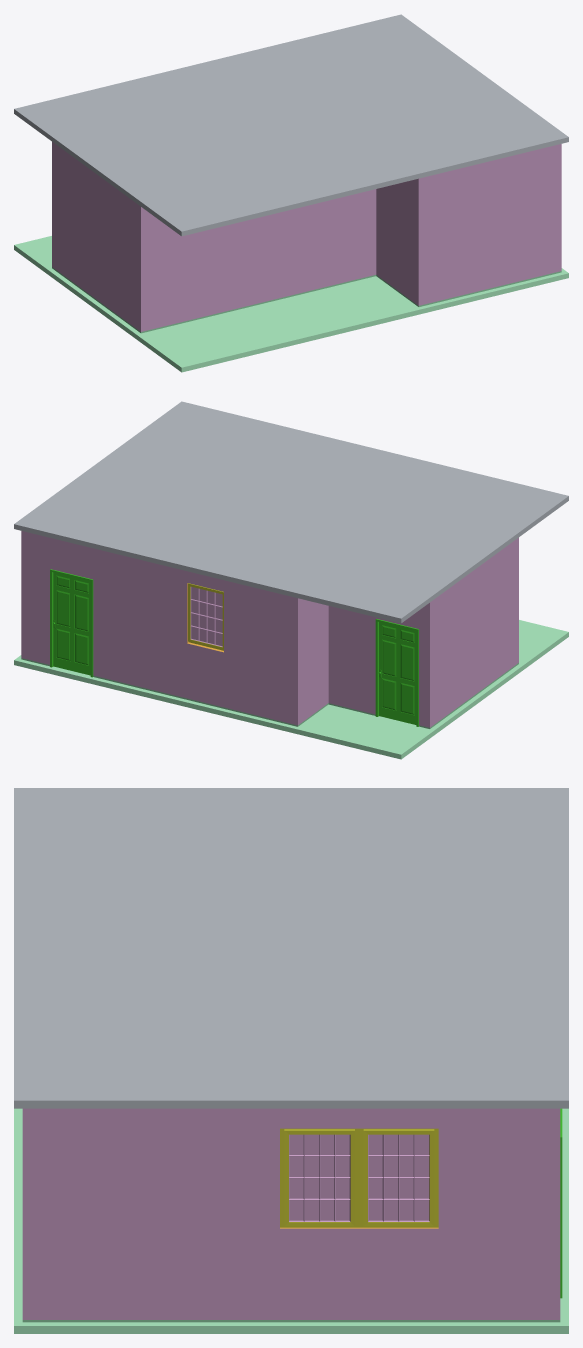
Rendered from FloorPlan7_physics.fbx.
The picture shows the model from 3 angles, top to bottom: view 1: azimuth 30°, elevation 25°; view 2: azimuth 150°, elevation 25°; view 3: azimuth 270°, elevation 25°; orthographic projection. The views are drawn at different scales.
Visible parts, largest first — view 1: Ceiling, StandardWallSize, Floor; view 2: Ceiling, StandardWallSize, Floor, StandardDoor1 (2), StandardDoor1, Glass, StandardDoorFrame1 (2), StandardDoorFrame1, WindowDetail, StandardWindow1 (3); view 3: Ceiling, StandardWallSize, Floor, Glass (2), Glass (3), StandardWindow1, StandardWindow1 (2), WindowTreatment2, WindowTreatment2 (2), WindowDetail (2), WindowDetail (3).
Part boxes in pixels (box(x1,y1,x2,y2)): Ceiling: box(14, 14, 568, 236); StandardWallSize: box(52, 142, 561, 333); Floor: box(14, 236, 568, 372); Ceiling: box(14, 401, 568, 623); StandardWallSize: box(21, 531, 518, 728); Floor: box(14, 620, 568, 759); StandardDoor1 (2): box(53, 572, 90, 675); StandardDoor1: box(379, 622, 416, 724); Glass: box(191, 587, 222, 646); StandardDoorFrame1 (2): box(50, 569, 93, 677); StandardDoorFrame1: box(375, 619, 418, 726); WindowDetail: box(190, 587, 222, 646); StandardWindow1 (3): box(188, 583, 223, 649); Ceiling: box(14, 788, 568, 1108); StandardWallSize: box(22, 1108, 560, 1322); Floor: box(14, 1108, 568, 1333); Glass (2): box(369, 1134, 428, 1220); Glass (3): box(289, 1134, 349, 1220); StandardWindow1: box(363, 1129, 434, 1226); StandardWindow1 (2): box(284, 1129, 354, 1226); WindowTreatment2: box(359, 1128, 438, 1227); WindowTreatment2 (2): box(280, 1128, 359, 1227); WindowDetail (2): box(368, 1134, 429, 1221); WindowDetail (3): box(289, 1134, 350, 1221).
Size of the model in its own units: 840 by 292 by 630.
